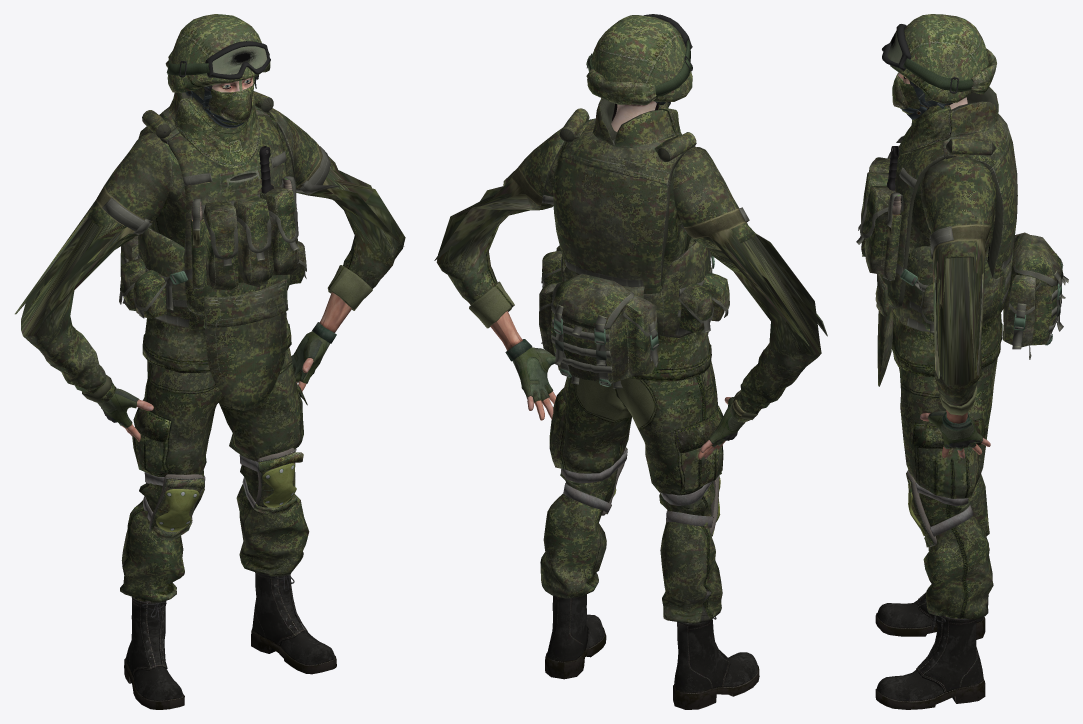
The model's file is human.glb.
3 renders of one model, left to right at view 1: azimuth 30°, elevation 25°; view 2: azimuth 150°, elevation 25°; view 3: azimuth 270°, elevation 25°, orthographic.
Parts seen in each view (by area): view 1: Object_2, Object_6, Object_5, Object_4; view 2: Object_2, Object_6, Object_5, Object_4; view 3: Object_2, Object_6, Object_5, Object_4.
Part boxes in pixels (bbox=[...]): Object_2: bbox=[21, 112, 405, 709]; Object_6: bbox=[15, 91, 404, 540]; Object_5: bbox=[119, 146, 306, 318]; Object_4: bbox=[165, 14, 270, 168]; Object_2: bbox=[436, 141, 821, 709]; Object_6: bbox=[434, 98, 827, 536]; Object_5: bbox=[539, 245, 729, 388]; Object_4: bbox=[586, 14, 692, 136]; Object_2: bbox=[875, 159, 1002, 709]; Object_6: bbox=[875, 86, 1017, 547]; Object_5: bbox=[856, 146, 1068, 359]; Object_4: bbox=[882, 14, 996, 154].
Size of the model in its own units: 6.04 by 10 by 2.99.
Materials: 5 (5 with a texture image).
